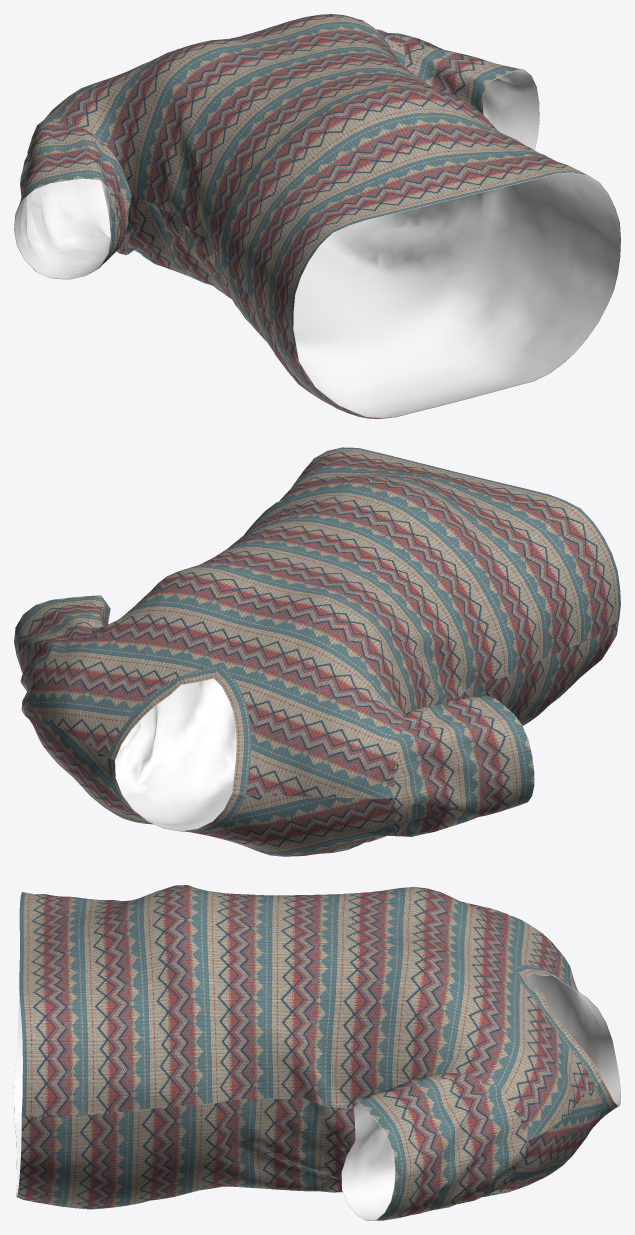
File: male_fat_sDD0zYe.glb
The picture shows the model from 3 angles, top to bottom: view 1: azimuth 30°, elevation 25°; view 2: azimuth 150°, elevation 25°; view 3: azimuth 270°, elevation 25°; orthographic projection. The views are drawn at different scales.
Parts seen in each view (by area): view 1: male_fat; view 2: male_fat; view 3: male_fat.
Boxes of the visible parts, x1,y1,x2,y2 form: male_fat: (14, 14, 620, 418); male_fat: (14, 447, 620, 856); male_fat: (14, 885, 620, 1220).
Bounding box in the file's own units: 0.7132 × 0.3505 × 0.6947.
Materials: 2 (1 with a texture image).
